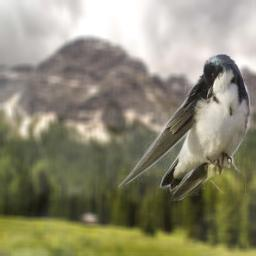Swallow: (118, 51, 253, 201)
